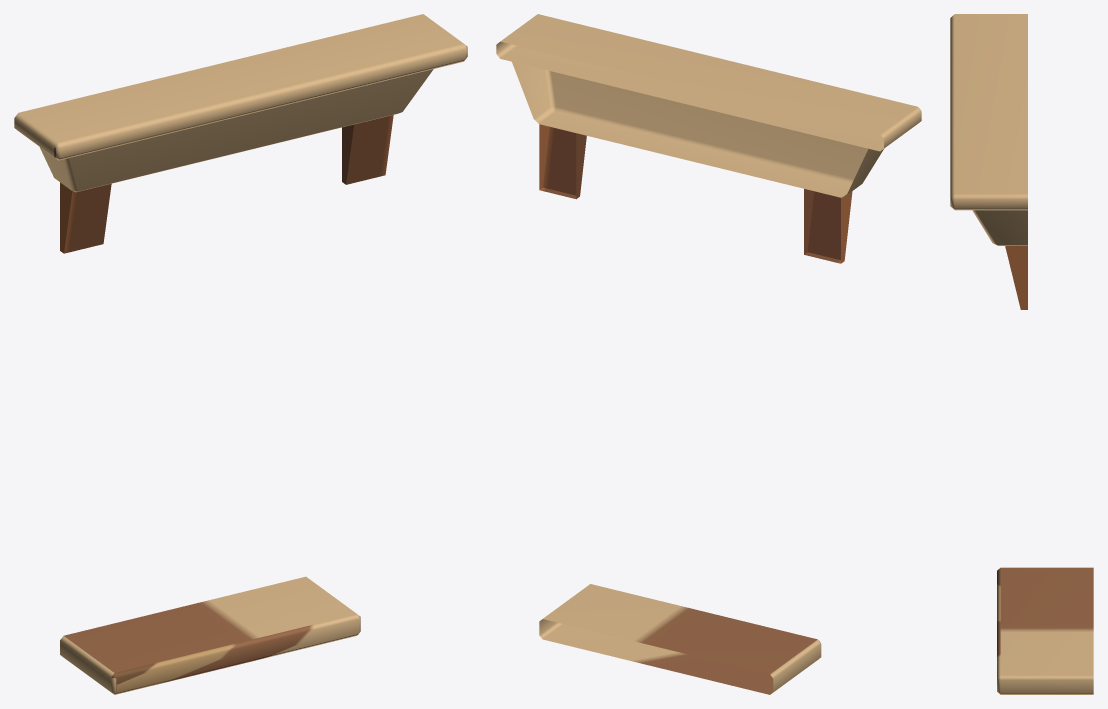
The model's file is DBK_WinSmall_Trim_B_Full.fbx.
3 renders of one model, left to right at view 1: azimuth 30°, elevation 25°; view 2: azimuth 150°, elevation 25°; view 3: azimuth 270°, elevation 25°, orthographic. The views are drawn at different scales.
Visible parts, largest first — view 1: DBK_WinSmall_Trim_B_Full; view 2: DBK_WinSmall_Trim_B_Full; view 3: DBK_WinSmall_Trim_B_Full.
Part boxes in pixels (x1=…): DBK_WinSmall_Trim_B_Full: x1=14, y1=14, x2=467, y2=694; DBK_WinSmall_Trim_B_Full: x1=496, y1=14, x2=921, y2=694; DBK_WinSmall_Trim_B_Full: x1=950, y1=14, x2=1093, y2=694.
Size of the model in its own units: 106 by 144 by 34.82.
